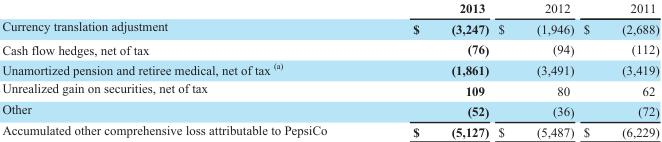table: (1, 0, 658, 139)
table column: (1, 0, 369, 139), (369, 0, 492, 139), (492, 0, 578, 139), (578, 0, 658, 139)
table column header: (1, 0, 658, 16)
table row: (1, 16, 658, 38), (1, 78, 658, 99), (1, 99, 658, 120), (1, 38, 658, 58), (1, 58, 658, 78), (1, 120, 658, 139), (1, 0, 658, 16)
